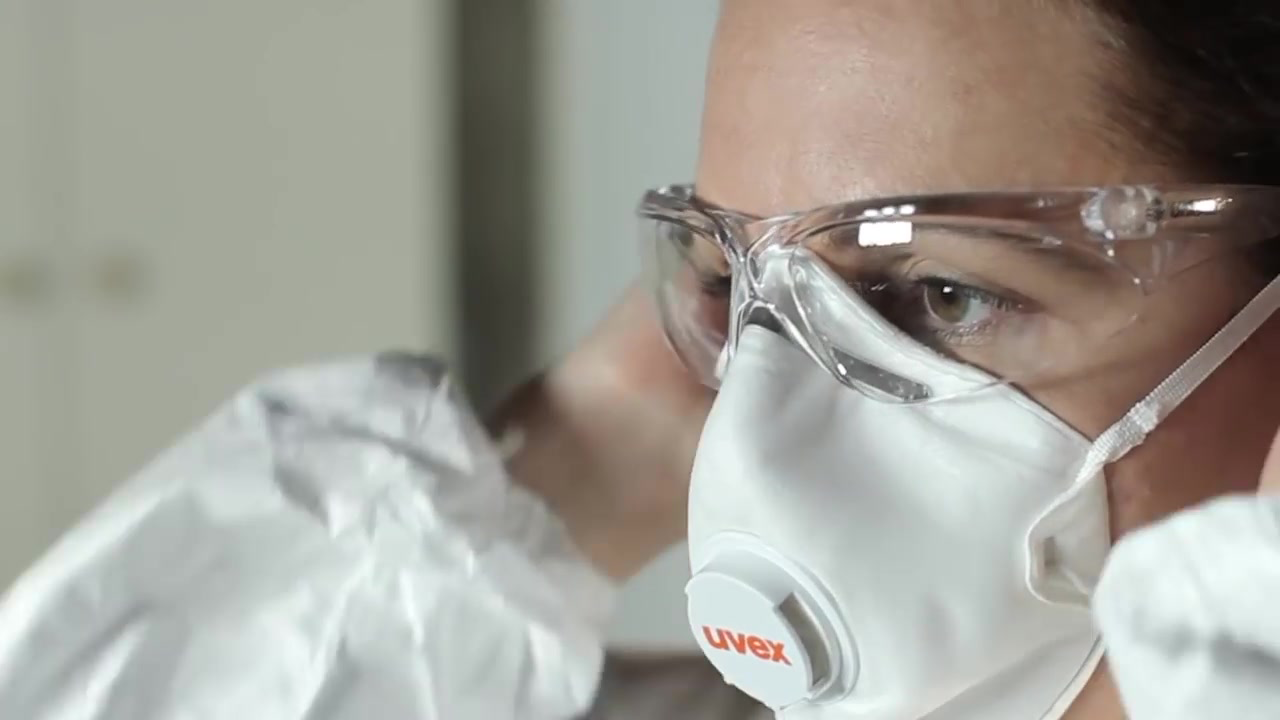Goggles: (607, 181, 1279, 398)
with_mask: (675, 277, 1112, 720)
